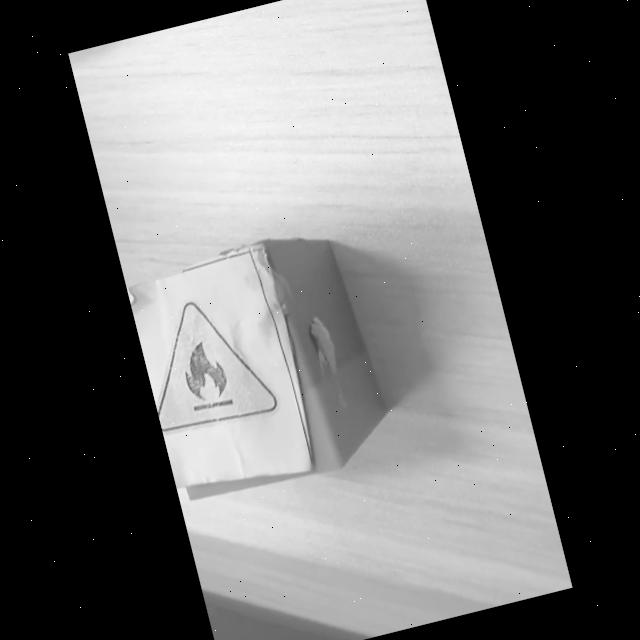Fire: (157, 302, 277, 433)
